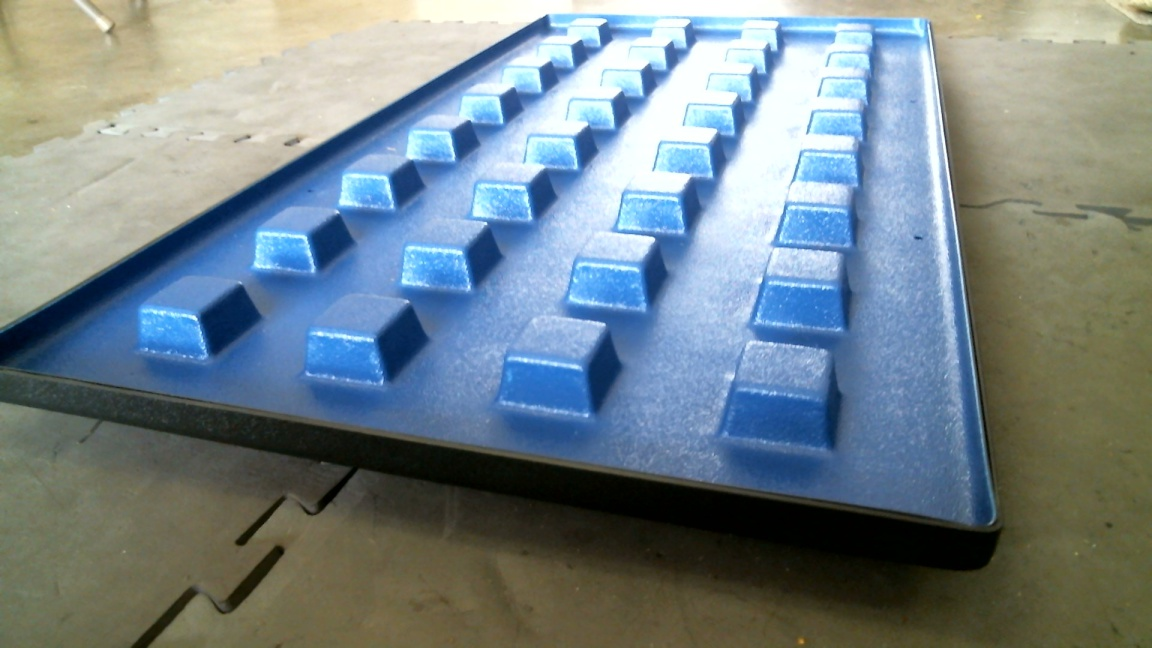blue_foundation: (1, 12, 1006, 574)
